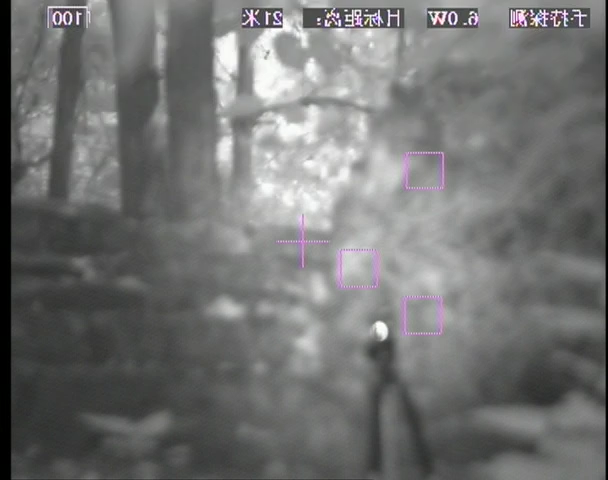my: (369, 319, 390, 341)
